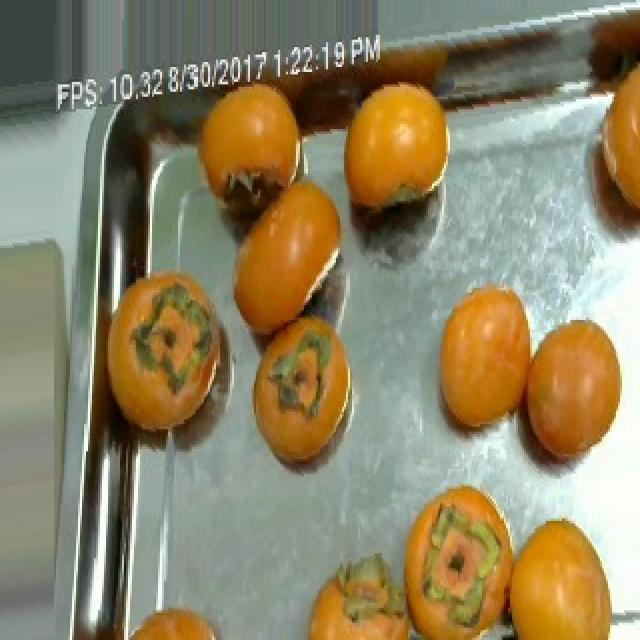Fruit: (104, 255, 254, 454), (500, 297, 640, 498), (420, 263, 548, 466), (214, 159, 348, 352), (332, 64, 474, 230), (238, 298, 360, 491), (182, 72, 322, 226), (500, 501, 624, 640), (576, 47, 640, 238), (126, 593, 236, 640)
